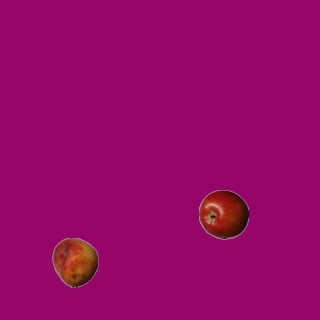Apple Braeburn: (198, 189, 248, 239)
Peach: (50, 237, 100, 287)
